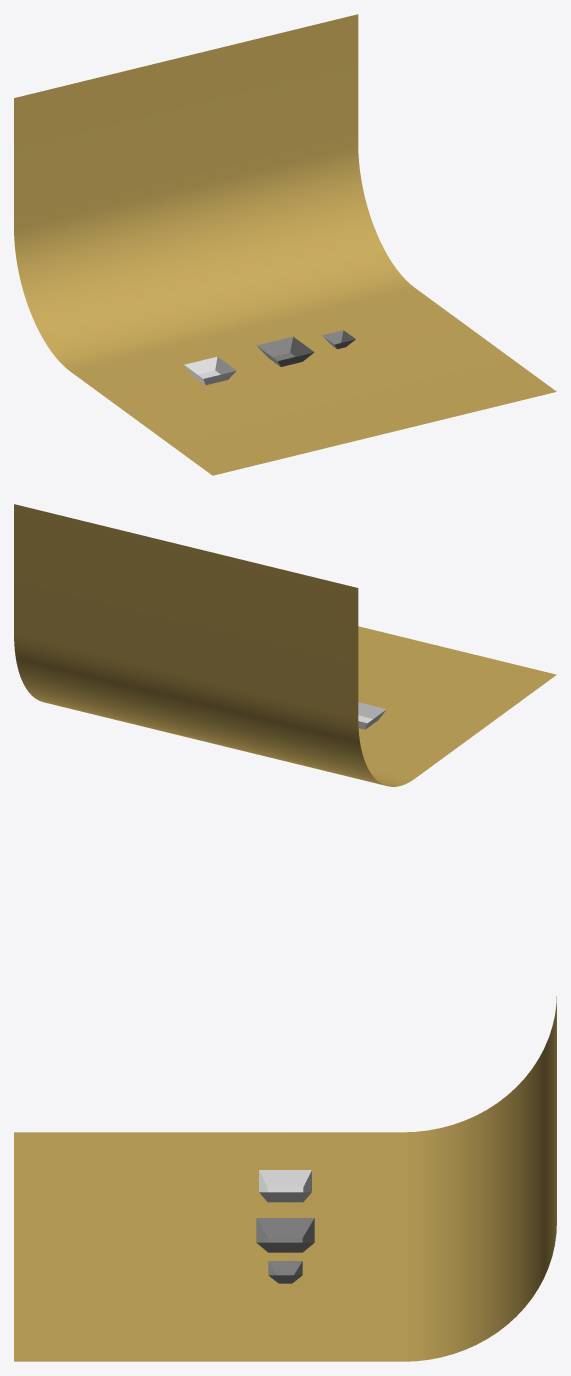
Rendered from sheet_metal_3.fbx.
3 views of the same model, one above another, from view 1: azimuth 30°, elevation 25°; view 2: azimuth 150°, elevation 25°; view 3: azimuth 270°, elevation 25° (orthographic). The views are drawn at different scales.
Visible parts, largest first — view 1: Plane, Cube, Plane.001; view 2: Plane, Plane.001; view 3: Plane, Cube, Plane.001, base.002.
Boxes of the visible parts, x1=… form: Plane: x1=14, y1=14, x2=556, y2=475; Cube: x1=256, y1=336, x2=314, y2=366; Plane.001: x1=184, y1=356, x2=236, y2=385; Plane: x1=14, y1=504, x2=556, y2=786; Plane.001: x1=358, y1=702, x2=386, y2=729; Plane: x1=14, y1=996, x2=556, y2=1361; Cube: x1=256, y1=1218, x2=314, y2=1252; Plane.001: x1=259, y1=1170, x2=311, y2=1202; base.002: x1=268, y1=1261, x2=302, y2=1283.
Size of the model in its own units: 314 by 202 by 314.
